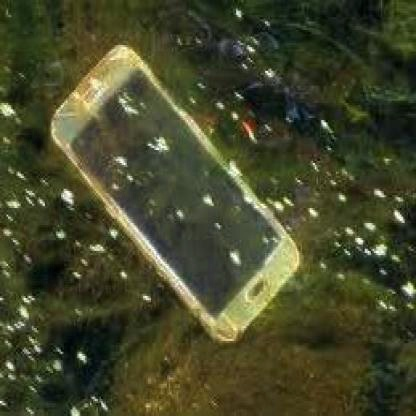cellphone: (53, 43, 304, 337)
